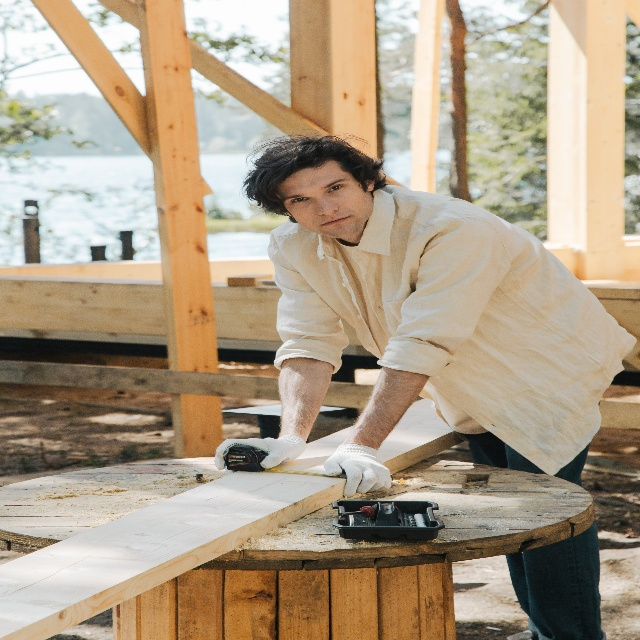Guantes: (323, 444, 392, 499), (214, 435, 305, 471)
